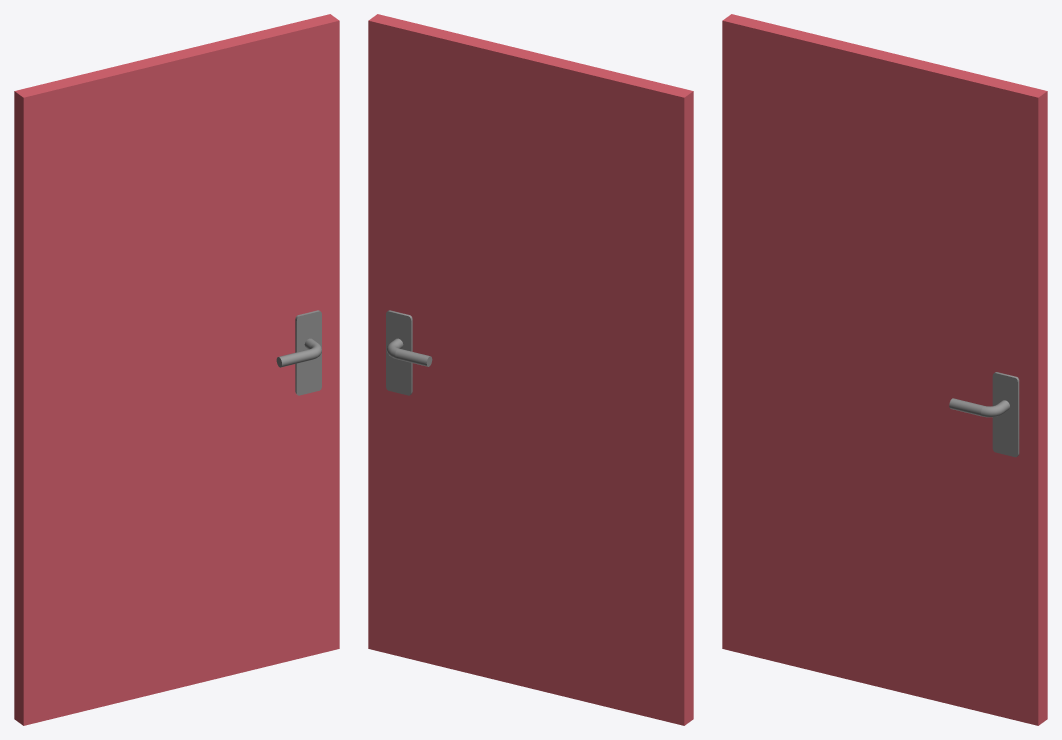
File: Deur (textured).FBX
3 views of the same model, side by side, from view 1: azimuth 30°, elevation 25°; view 2: azimuth 150°, elevation 25°; view 3: azimuth 330°, elevation 25° (orthographic).
Parts seen in each view (by area): view 1: Box002, ChamferBox001; view 2: Box002, ChamferBox001; view 3: Box002, ChamferBox001.
Boxes of the visible parts, x1,y1,x2,y2 form: Box002: (14,14,339,725); ChamferBox001: (295,310,321,395); Box002: (368,14,693,725); ChamferBox001: (386,310,412,395); Box002: (722,14,1047,725); ChamferBox001: (992,372,1019,457).
Bounding box in the file's own units: 100 × 190 × 21.87.
